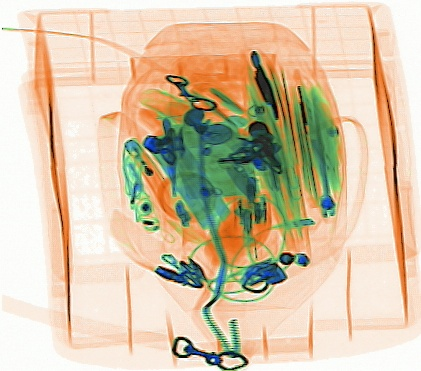lighter: (121, 137, 185, 219)
